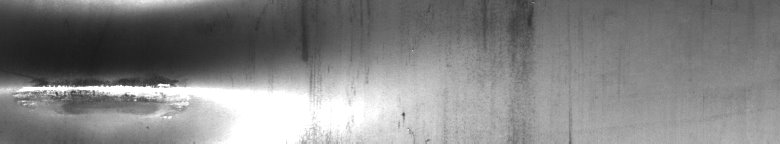ke: (4, 4, 572, 136)
